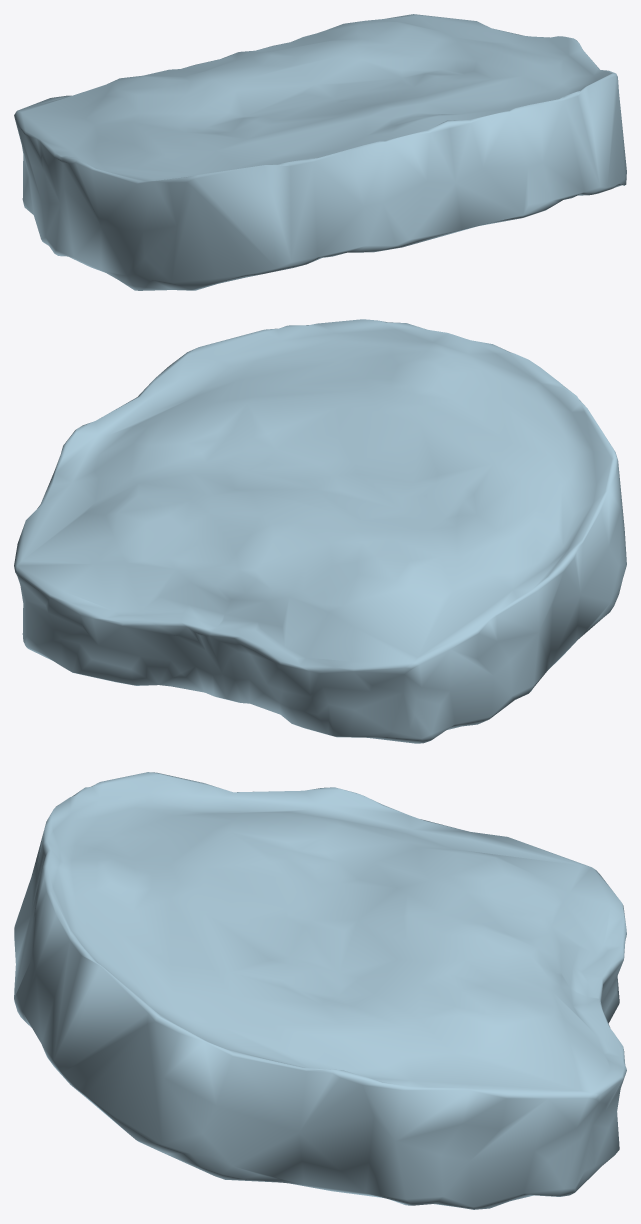
Rendered from articulacoes-intervertebral-disc-t10-t11.glb.
3 renders of one model, top to bottom at view 1: azimuth 30°, elevation 25°; view 2: azimuth 150°, elevation 25°; view 3: azimuth 270°, elevation 25°, orthographic. The views are drawn at different scales.
Parts seen in each view (by area): view 1: Intervertebral disc T10-T11; view 2: Intervertebral disc T10-T11; view 3: Intervertebral disc T10-T11.
Part boxes in pixels (box(x1,y1,x2,y2)): Intervertebral disc T10-T11: box(14, 14, 626, 290); Intervertebral disc T10-T11: box(14, 319, 626, 743); Intervertebral disc T10-T11: box(14, 772, 626, 1209).
Size of the model in its own units: 0.0406 by 0.0159 by 0.0367.
